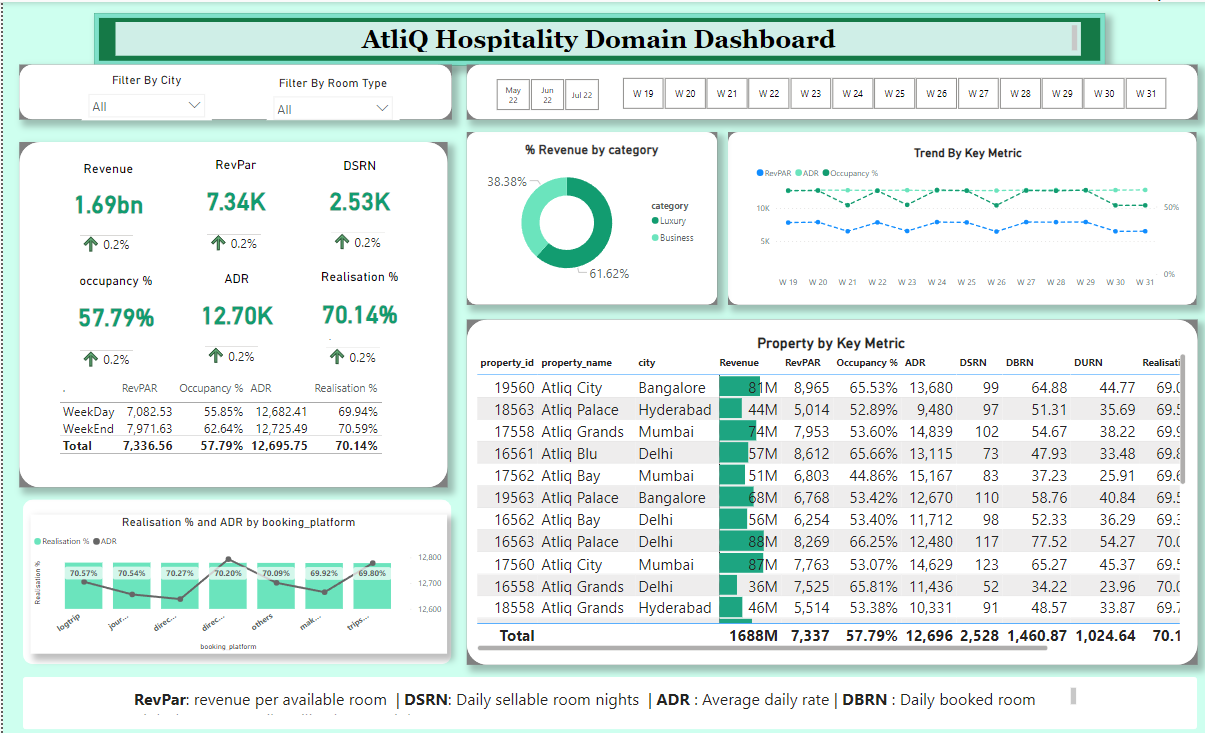

Layout of this report page (visuals, bound fields, positions):
{"tool":"powerbi","page":{"name":"Page 1","canvas":[1800,1100],"ordinal":0},"visuals":[{"type":"shape","box":[136,16,1510,78],"z":0},{"type":"shape","box":[692,474,1092,516],"z":1000},{"type":"shape","box":[30,744,640,246],"z":2000},{"type":"shape","box":[1084,194,700,258],"z":3000},{"type":"shape","box":[692,194,374,258],"z":4000},{"type":"shape","box":[24,210,640,516],"z":5000},{"type":"shape","box":[692,94,1092,82],"z":6000},{"type":"shape","box":[24,94,646,82],"z":7000},{"type":"slicer","title":"Filter By City","fields":{"Values":["dim_hotels.city"]},"box":[118,106,194,70],"z":8000},{"type":"slicer","title":"Filter By Room Type","fields":{"Values":["dim_rooms.room_class"]},"box":[394,110,198,66],"z":9000},{"type":"slicer","fields":{"Values":["dim_date.mmm yy"]},"box":[712,108,202,60],"z":10000},{"type":"slicer","fields":{"Values":["dim_date.week no"]},"box":[900,105.7,862,60],"z":11000},{"type":"card","title":"Realisation %","fields":{"Values":["Measure Table.Realisation %"]},"box":[465.2,400.4,136,106],"z":12000},{"type":"tableEx","fields":{"Values":["Measure Table.Revenue WoW Change %"]},"box":[108.5,294.4,120,68],"z":13000},{"type":"tableEx","fields":{"Values":["Measure Table.Revenue WoW Change %"]},"box":[298.5,316,100,64],"z":14000},{"type":"tableEx","fields":{"Values":["Measure Table.Revenue WoW Change %"]},"box":[484.2,314.4,98,68],"z":15000},{"type":"card","title":"RevPar","fields":{"Values":["Measure Table.RevPAR"]},"box":[284.5,231.6,128,106],"z":16000},{"type":"card","title":"DSRN","fields":{"Values":["Measure Table.DSRN"]},"box":[467.2,234,132,102],"z":17000},{"type":"tableEx","fields":{"Values":["Measure Table.Revenue WoW Change %"]},"box":[108.5,489.6,120,68],"z":18000},{"type":"tableEx","fields":{"Values":["Measure Table.Revenue WoW Change %"]},"box":[294.9,483.2,120,68],"z":19000},{"type":"tableEx","fields":{"Values":["Measure Table.Revenue WoW Change %"]},"box":[108.5,317.6,120,68],"z":20000},{"type":"tableEx","fields":{"Values":["Measure Table.Revenue WoW Change %"]},"box":[477.2,486.4,112,74],"z":21000},{"type":"card","title":"occupancy %","fields":{"Values":["Measure Table.Occupancy %"]},"box":[102.5,405.6,132,104],"z":22000},{"type":"card","title":"ADR","fields":{"Values":["Measure Table.ADR"]},"box":[281.5,402,134,106],"z":23000},{"type":"card","title":"Revenue","fields":{"Values":["Measure Table.Revenue"]},"box":[83.3,236.7,146.7,101.7],"z":24000},{"type":"tableEx","fields":{"Values":["dim_date.day_type","Measure Table.RevPAR","Measure Table.Occupancy %","Measure Table.ADR","Measure Table.Realisation %"]},"box":[78.3,560,543.3,135],"z":25000},{"type":"donutChart","title":"% Revenue by category","fields":{"Y":["Measure Table.Revenue"],"Category":["dim_hotels.category"]},"box":[712,210,336,220],"z":26000},{"type":"lineChart","title":"Trend By Key Metric","fields":{"Category":["dim_date.mmm yy.Variation.Date Hierarchy.Month","dim_date.week no"],"Y":["Measure Table.RevPAR","Measure Table.ADR"],"Y2":["Measure Table.Occupancy %"]},"box":[1120,214,642,222],"z":27000},{"type":"lineStackedColumnComboChart","fields":{"Category":["fact_bookings.booking_platform"],"Y":["Measure Table.Realisation %"],"Y2":["Measure Table.ADR"]},"box":[42,766,622,208],"z":28000},{"type":"tableEx","title":"Property by Key Metric","fields":{"Values":["dim_hotels.property_id","dim_hotels.property_name","dim_hotels.city","Measure Table.Revenue","Measure Table.RevPAR","Measure Table.Occupancy %","Measure Table.ADR","Measure Table.DSRN","Measure Table.DBRN","Measure Table.DURN","Measure Table.Realisation %","Measure Table.Cancellation %"]},"box":[702,496,1070,478],"z":29000},{"type":"shape","box":[30,1008,1754,78],"z":30000},{"type":"textbox","box":[191,1020,1418,50],"z":31000},{"type":"textbox","box":[168,30,1442,50],"z":32000}]}

Visuals, with their boxes in screenshot pixels (x1, y1, x2, y2), scaled from the page's 1800x1100 canvas onto the 1205x733 screenshot:
shape: [91, 11, 1102, 63]
shape: [463, 316, 1194, 660]
shape: [20, 496, 449, 660]
shape: [726, 129, 1194, 301]
shape: [463, 129, 714, 301]
shape: [16, 140, 445, 484]
shape: [463, 63, 1194, 117]
shape: [16, 63, 449, 117]
"Filter By City" slicer: [79, 71, 209, 117]
"Filter By Room Type" slicer: [264, 73, 396, 117]
slicer - dim_date.mmm yy: [477, 72, 612, 112]
slicer - dim_date.week no: [602, 70, 1180, 110]
"Realisation %" card: [311, 267, 402, 337]
tableEx - Measure Table.Revenue WoW Change %: [73, 196, 153, 241]
tableEx - Measure Table.Revenue WoW Change %: [200, 211, 267, 253]
tableEx - Measure Table.Revenue WoW Change %: [324, 210, 390, 255]
"RevPar" card: [190, 154, 276, 225]
"DSRN" card: [313, 156, 401, 224]
tableEx - Measure Table.Revenue WoW Change %: [73, 326, 153, 372]
tableEx - Measure Table.Revenue WoW Change %: [197, 322, 278, 367]
tableEx - Measure Table.Revenue WoW Change %: [73, 212, 153, 257]
tableEx - Measure Table.Revenue WoW Change %: [319, 324, 394, 373]
"occupancy %" card: [69, 270, 157, 340]
"ADR" card: [188, 268, 278, 339]
"Revenue" card: [56, 158, 154, 225]
tableEx - dim_date.day_type x Measure Table.RevPAR: [52, 373, 416, 463]
"% Revenue by category" donutChart: [477, 140, 702, 287]
"Trend By Key Metric" lineChart: [750, 143, 1180, 291]
lineStackedColumnComboChart - fact_bookings.booking_platform x Measure Table.Realisation %: [28, 510, 445, 649]
"Property by Key Metric" tableEx: [470, 331, 1186, 649]
shape: [20, 672, 1194, 724]
textbox: [128, 680, 1077, 713]
textbox: [112, 20, 1078, 53]
